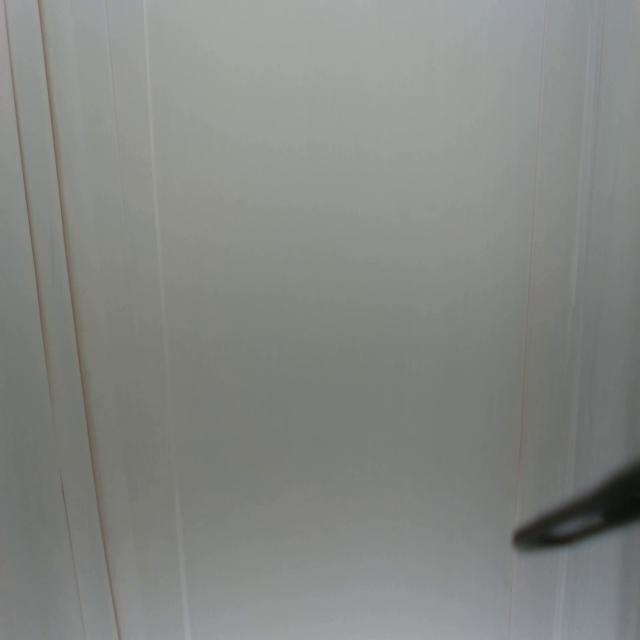crease: (3, 0, 87, 640), (39, 0, 122, 640), (143, 0, 191, 640), (564, 2, 605, 475), (514, 0, 548, 505), (103, 0, 121, 163), (506, 556, 515, 638)
